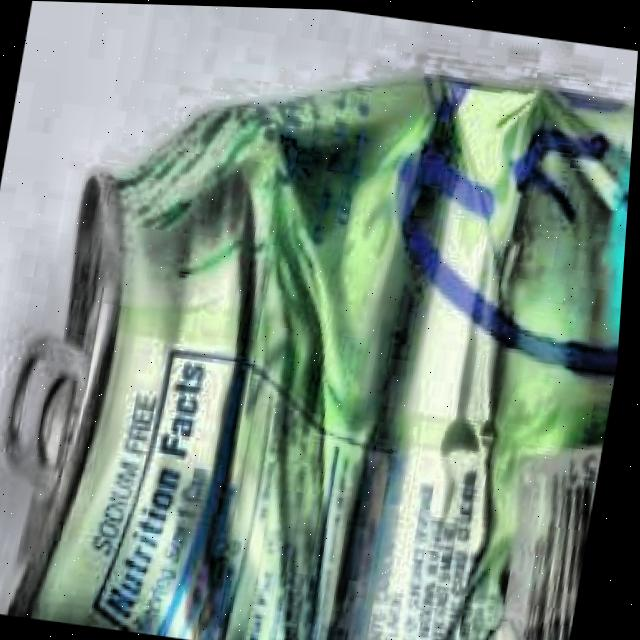metal: (0, 61, 636, 640)
